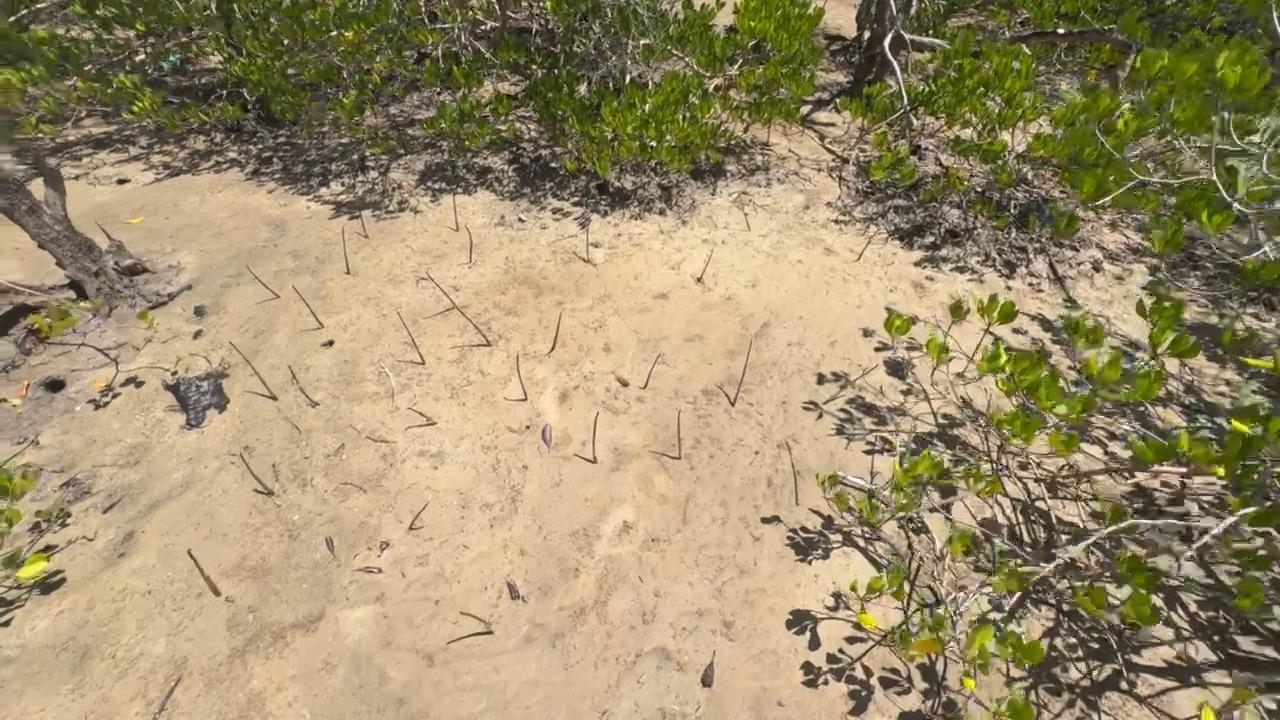Tree: (959, 292, 1021, 377), (228, 340, 278, 401), (238, 448, 275, 496), (187, 549, 221, 597), (397, 311, 426, 366), (455, 305, 492, 346), (732, 337, 753, 408), (291, 284, 324, 328), (287, 365, 318, 405), (246, 264, 281, 298), (425, 272, 456, 307), (644, 352, 662, 388), (408, 501, 430, 529), (516, 350, 528, 400), (697, 248, 714, 282), (406, 406, 436, 425), (550, 311, 563, 350), (592, 410, 601, 464), (341, 226, 350, 275), (94, 220, 113, 241), (458, 610, 486, 624), (857, 235, 872, 261), (463, 224, 473, 263), (739, 199, 750, 232), (358, 210, 368, 239), (677, 408, 682, 459), (453, 193, 459, 230), (585, 227, 590, 263)
